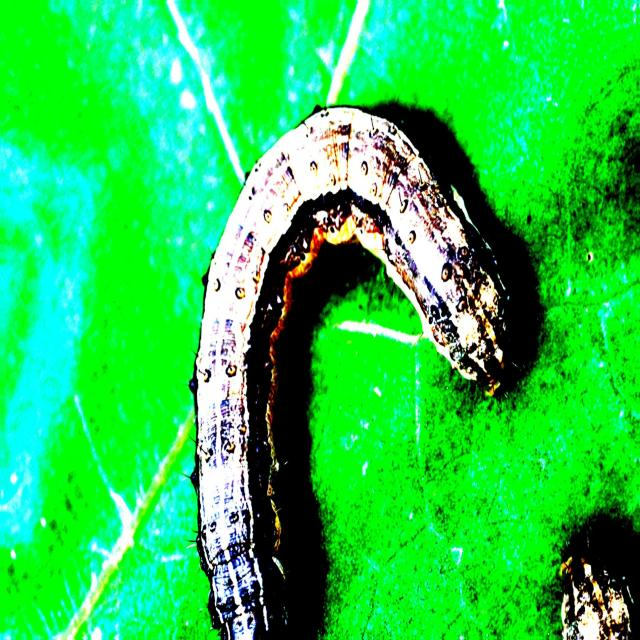Armyworm: (134, 27, 529, 640)
